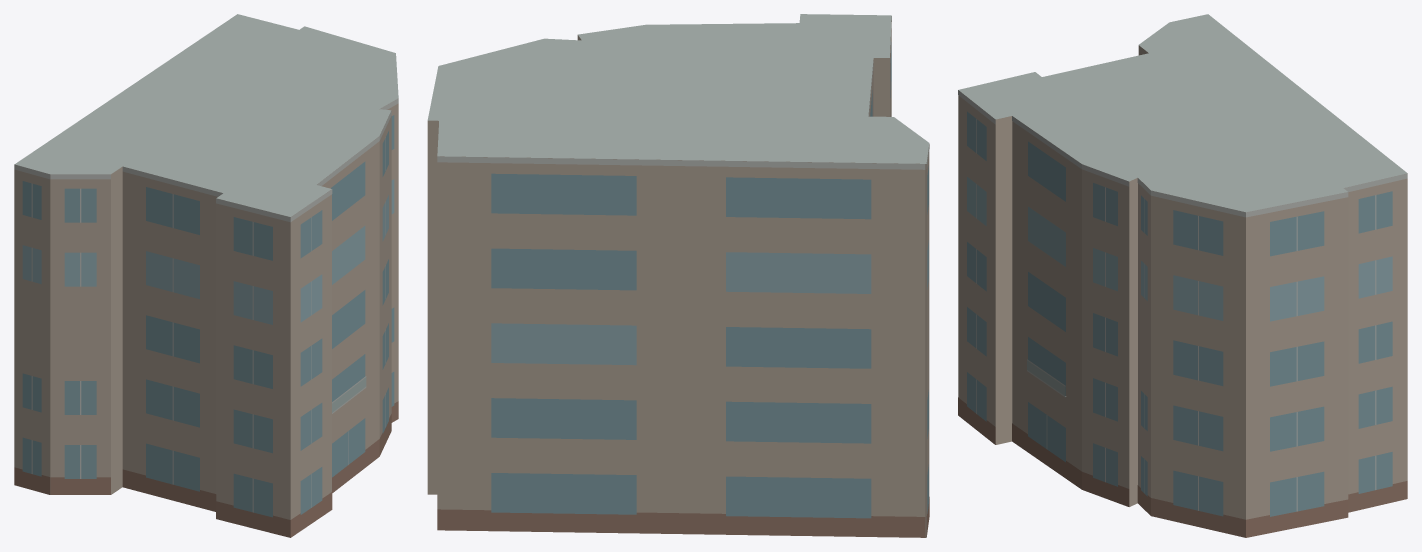
Rendered from survey-upis-32749336.glb.
3 renders of one model, left to right at view 1: azimuth 30°, elevation 25°; view 2: azimuth 150°, elevation 25°; view 3: azimuth 270°, elevation 25°, orthographic. The views are drawn at different scales.
Visible parts, largest first — view 1: survey-upis-32749336.tmp; view 2: survey-upis-32749336.tmp; view 3: survey-upis-32749336.tmp.
Part boxes in pixels (left/top/right/bottom): survey-upis-32749336.tmp: left=14, top=14, right=398, bottom=537; survey-upis-32749336.tmp: left=427, top=14, right=929, bottom=537; survey-upis-32749336.tmp: left=958, top=14, right=1407, bottom=537.
Bounding box in the file's own units: 19.92 × 15.25 × 19.09.
